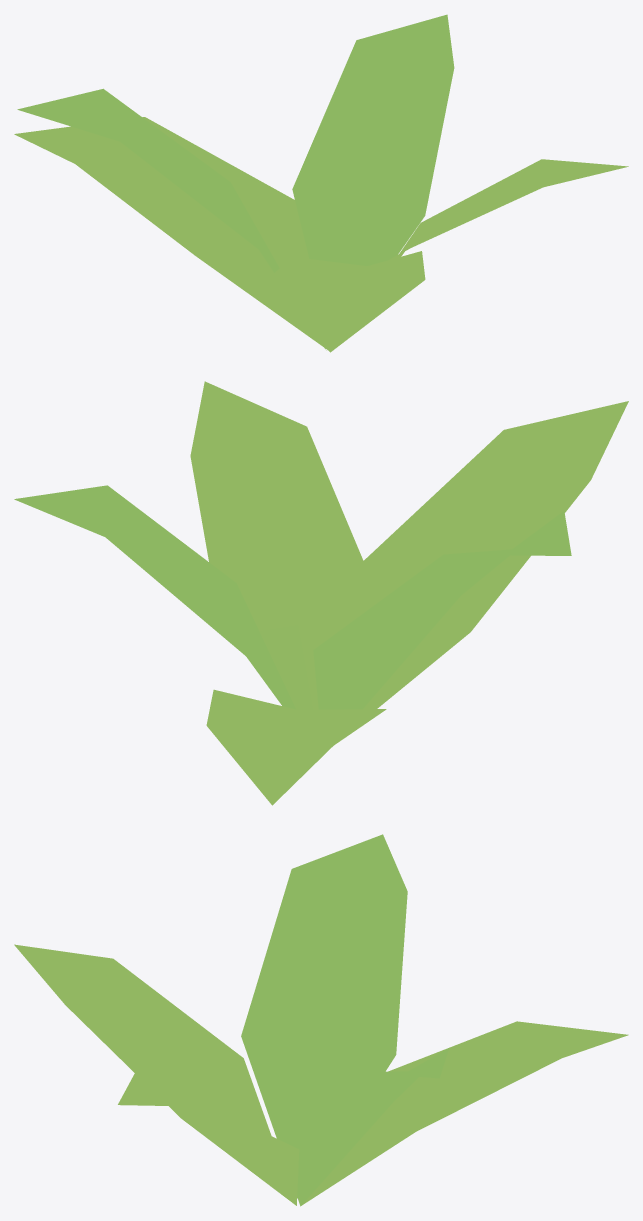
The model's file is Plant_k_TwoS_05.fbx.
3 renders of one model, top to bottom at view 1: azimuth 30°, elevation 25°; view 2: azimuth 150°, elevation 25°; view 3: azimuth 270°, elevation 25°, orthographic. The views are drawn at different scales.
Visible parts, largest first — view 1: Plant_k_TwoS_05; view 2: Plant_k_TwoS_05; view 3: Plant_k_TwoS_05.
Part boxes in pixels (x1=…): Plant_k_TwoS_05: x1=14, y1=14, x2=628, y2=352; Plant_k_TwoS_05: x1=14, y1=381, x2=628, y2=805; Plant_k_TwoS_05: x1=14, y1=834, x2=628, y2=1206.
Bounding box in the file's own units: 0.3771 × 0.2109 × 0.4664.
